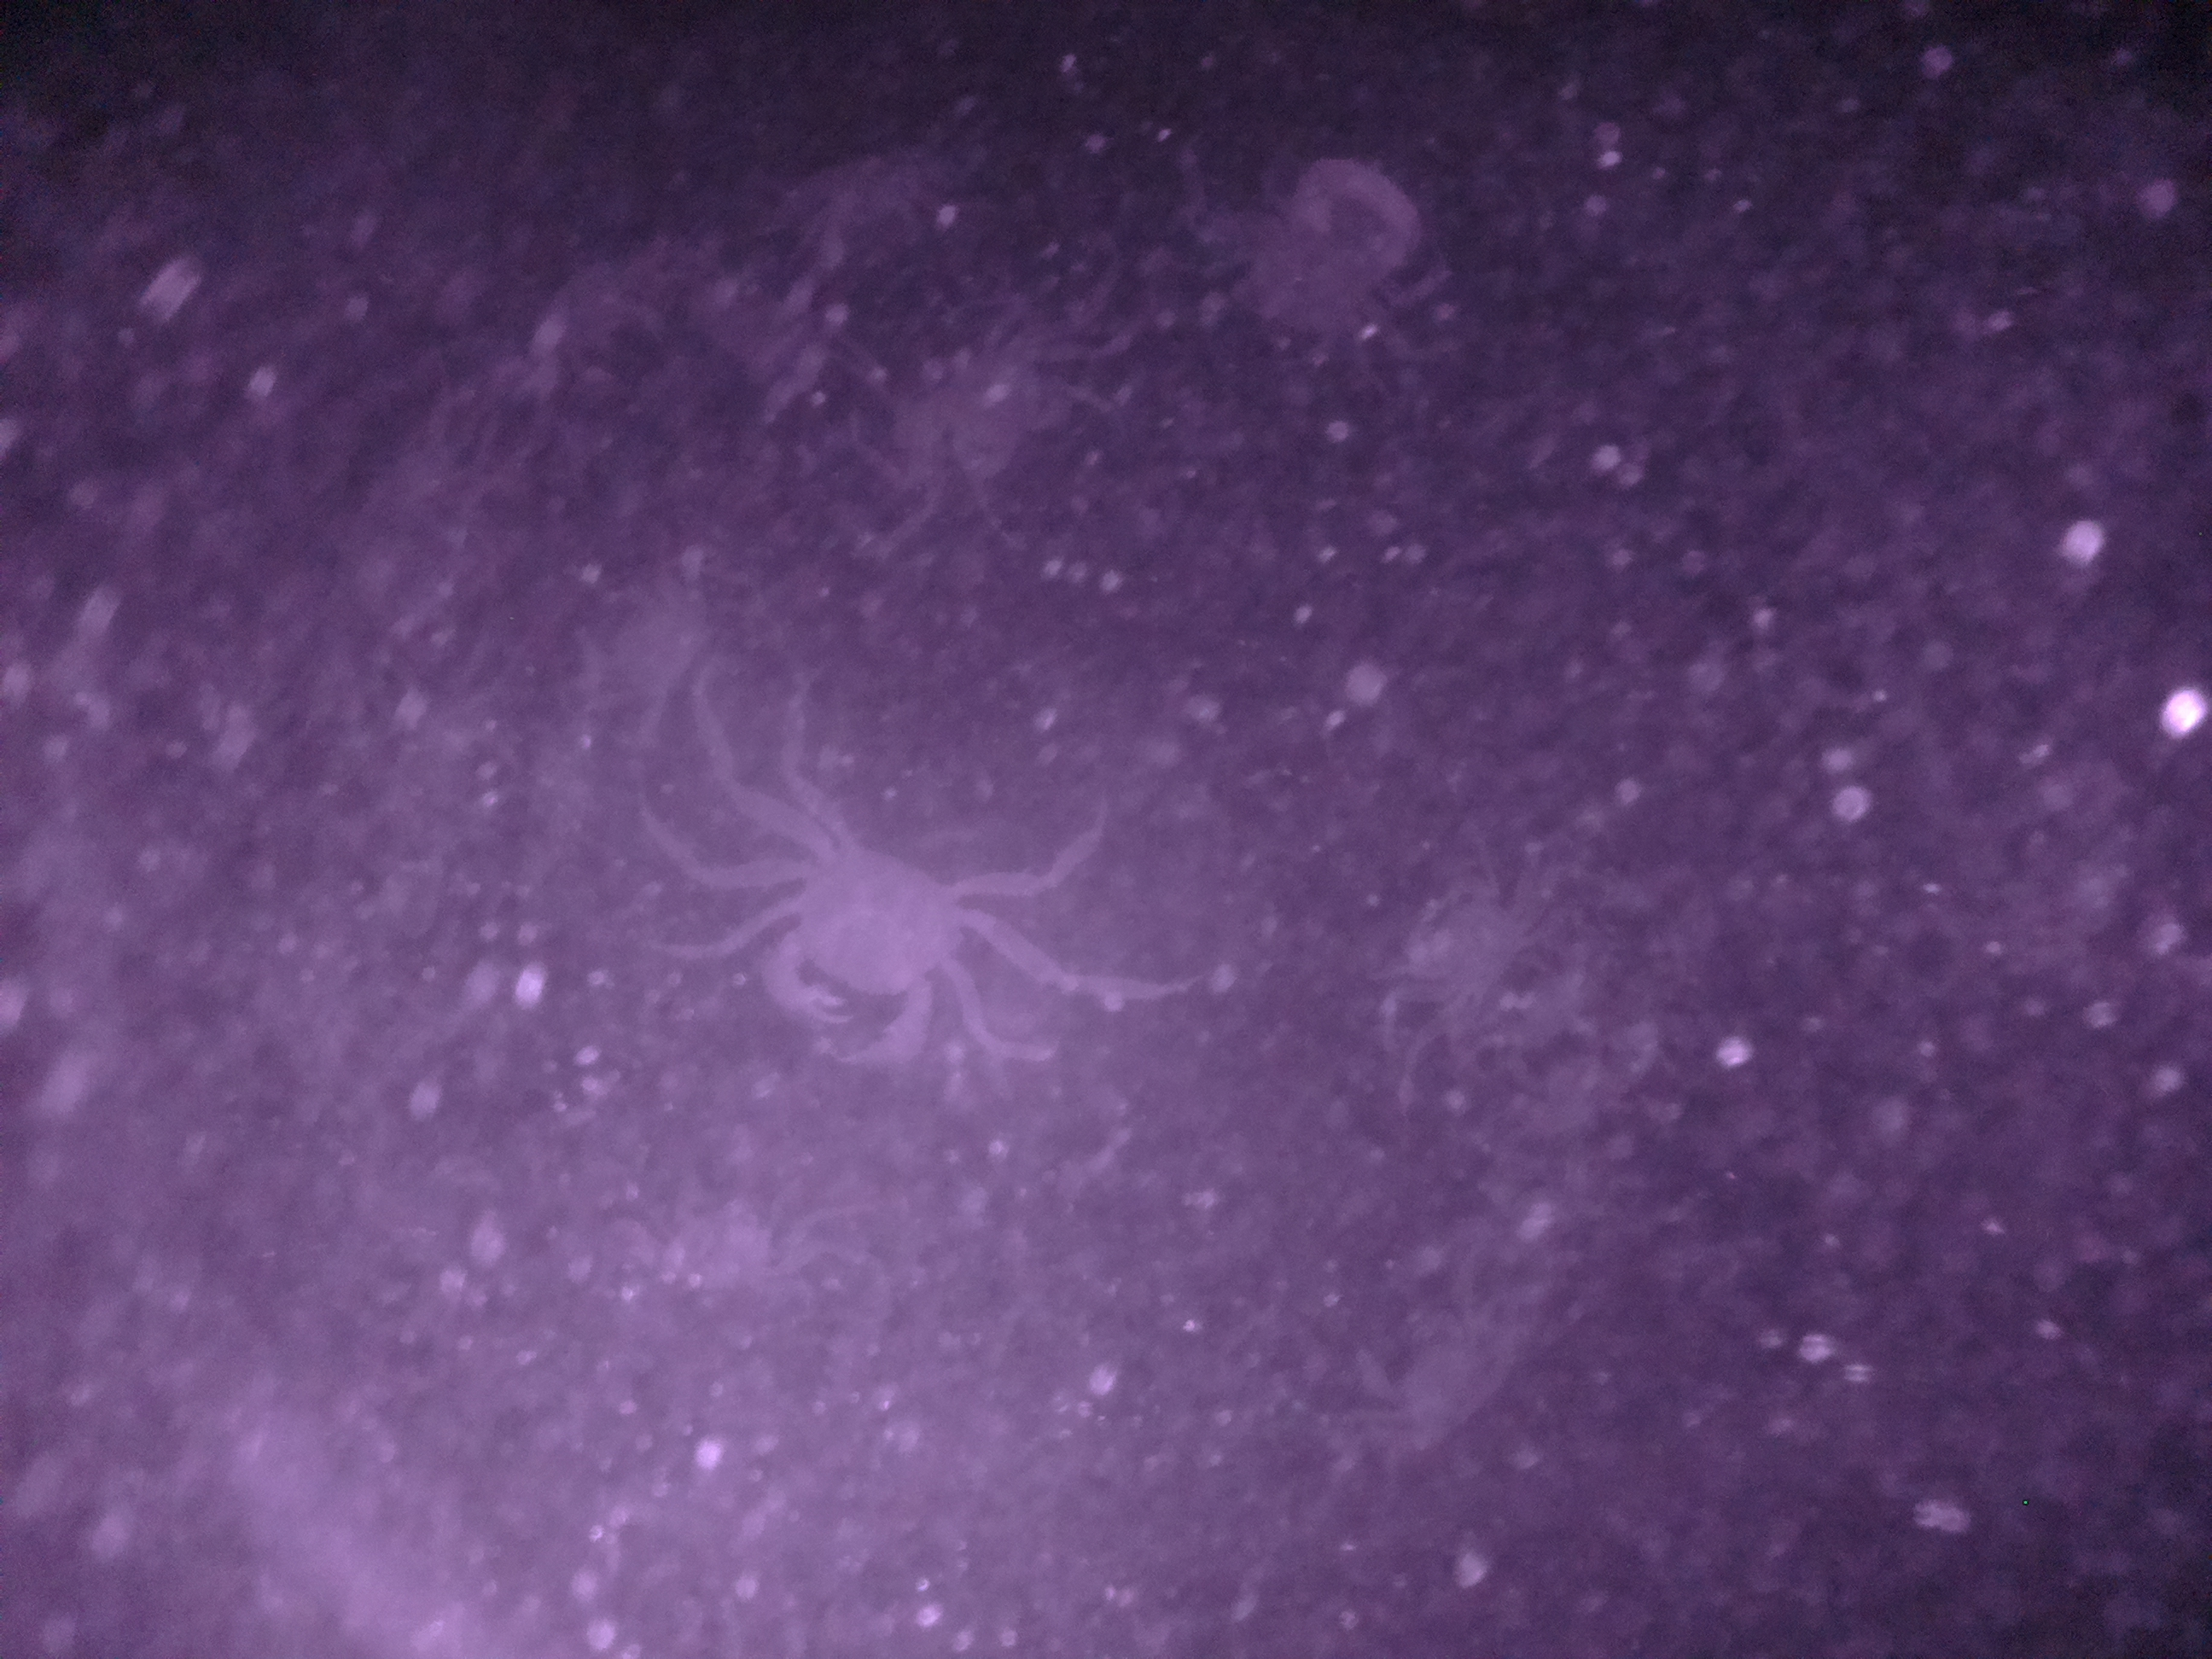Crab: (707, 784, 1005, 1075)
